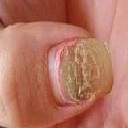Nail Fungal Infection: (57, 38, 103, 104)
